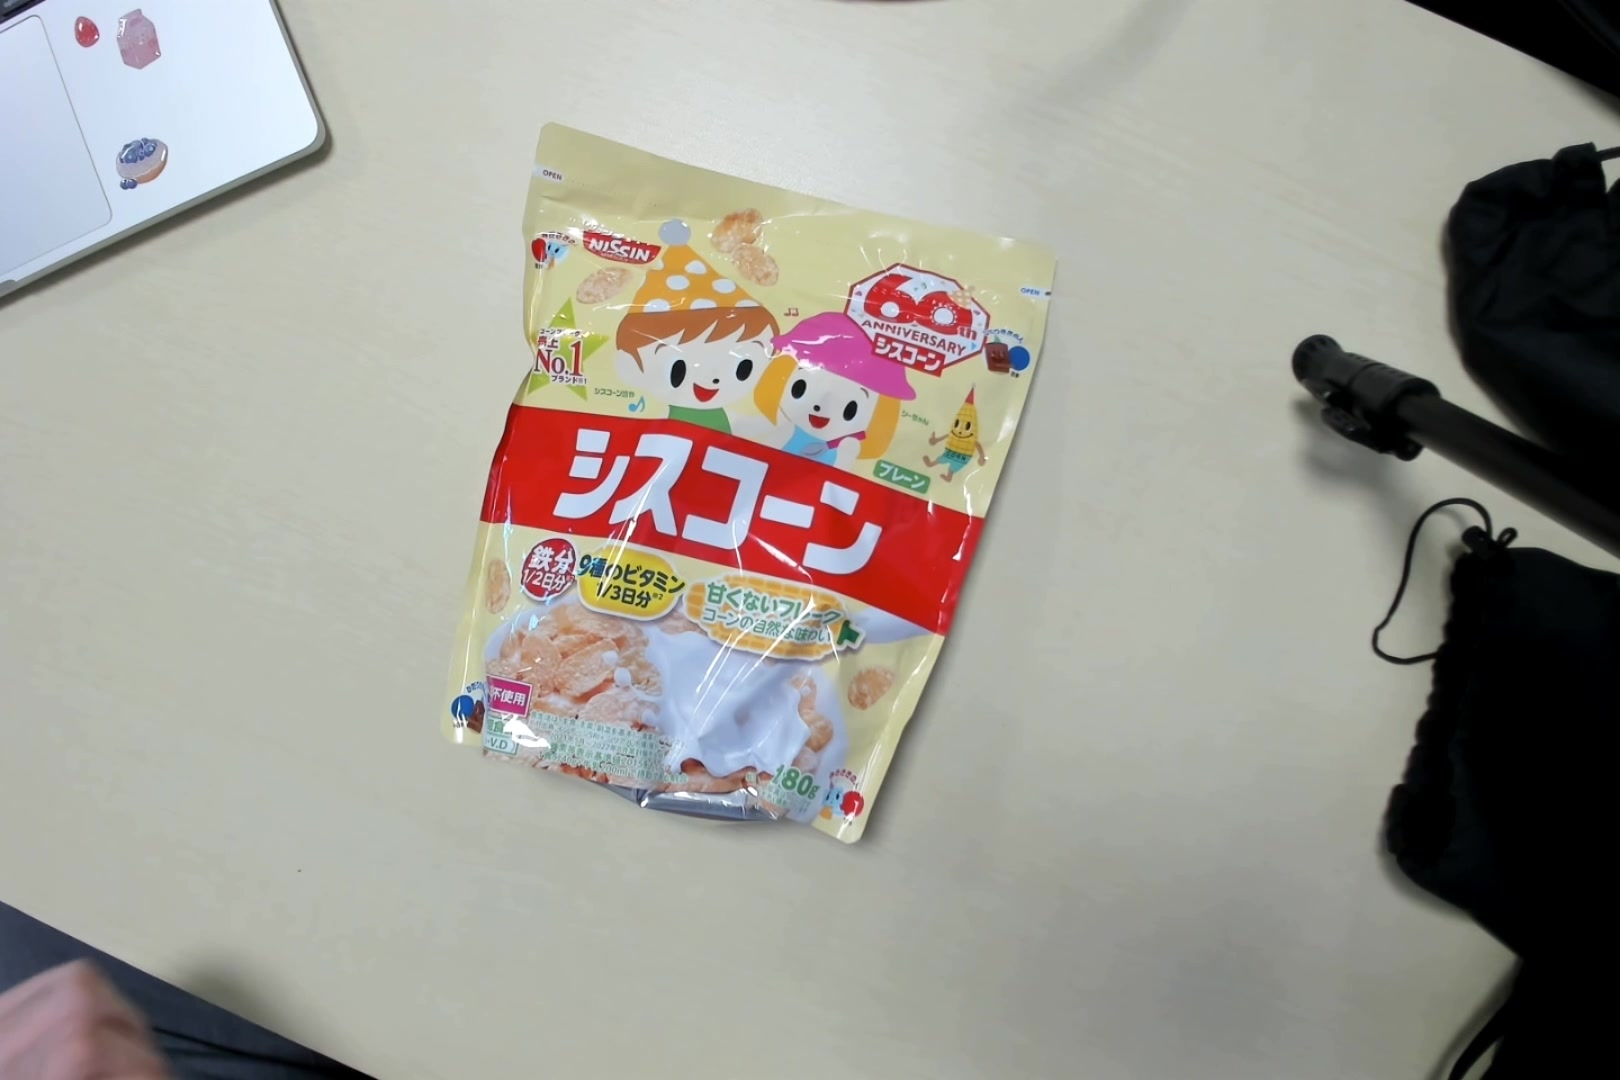BreakfastCereals_100-199g_NonHalal_NonHealthy: (466, 165, 1078, 834)
